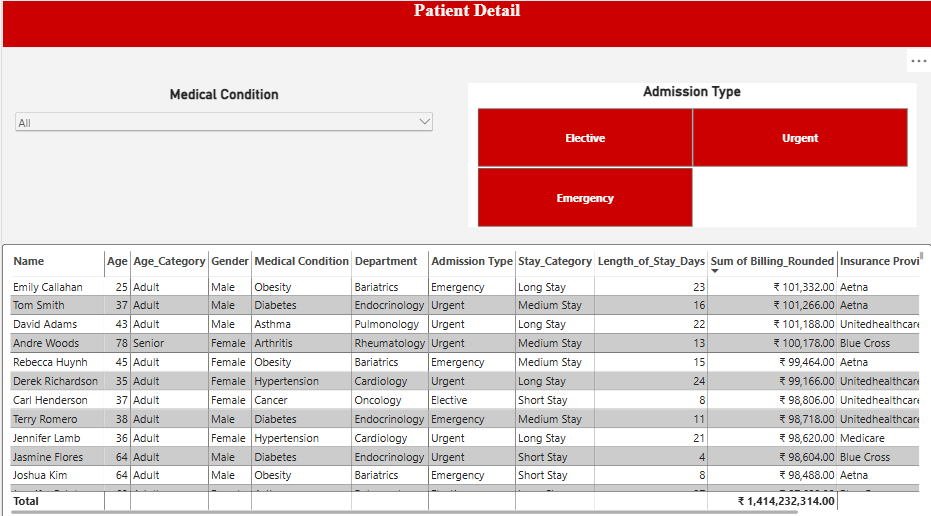

Layout of this report page (visuals, bound fields, positions):
{"tool":"powerbi","page":{"name":"Patient Detail","canvas":[1920,1080],"ordinal":2},"visuals":[{"type":"textbox","box":[0,0,1920,99.1],"z":0},{"type":"tableEx","fields":{"Values":["healthcare_dataset.Name","healthcare_dataset.Age","healthcare_dataset.Age_Category","healthcare_dataset.Gender","healthcare_dataset.Medical Condition","healthcare_dataset.Department","healthcare_dataset.Admission Type","healthcare_dataset.Stay_Category","healthcare_dataset.Length_of_Stay_Days","Sum(healthcare_dataset.Billing_Rounded)","healthcare_dataset.Insurance Provider","healthcare_dataset.Test Results"]},"box":[0,504.3,1920,574.6],"z":1000},{"type":"slicer","title":"Admission Type","fields":{"Values":["healthcare_dataset.Admission Type"]},"box":[961,171.5,925.9,297.6],"z":2000},{"type":"slicer","title":"Medical Condition","fields":{"Values":["healthcare_dataset.Medical Condition"]},"box":[22.7,177.7,872.2,291.4],"z":3000}]}

Visuals, with their boxes in screenshot pixels (x1, y1, x2, y2), scaled from the page's 1920x1080 canvas onto the 931x516 screenshot:
textbox: x1=0 y1=0 x2=930 y2=47
tableEx - healthcare_dataset.Name x healthcare_dataset.Age: x1=0 y1=241 x2=930 y2=515
"Admission Type" slicer: x1=466 y1=82 x2=915 y2=224
"Medical Condition" slicer: x1=11 y1=85 x2=434 y2=224
